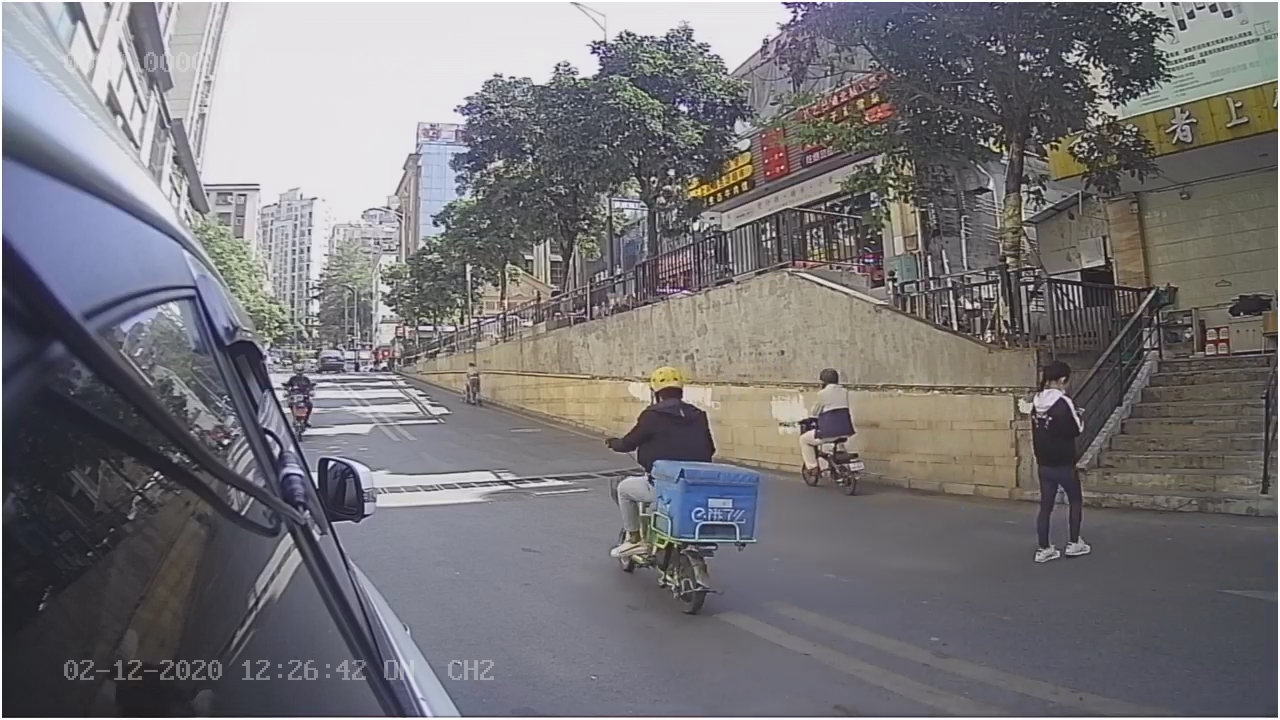person: (1017, 358, 1104, 567), (595, 359, 722, 460)
